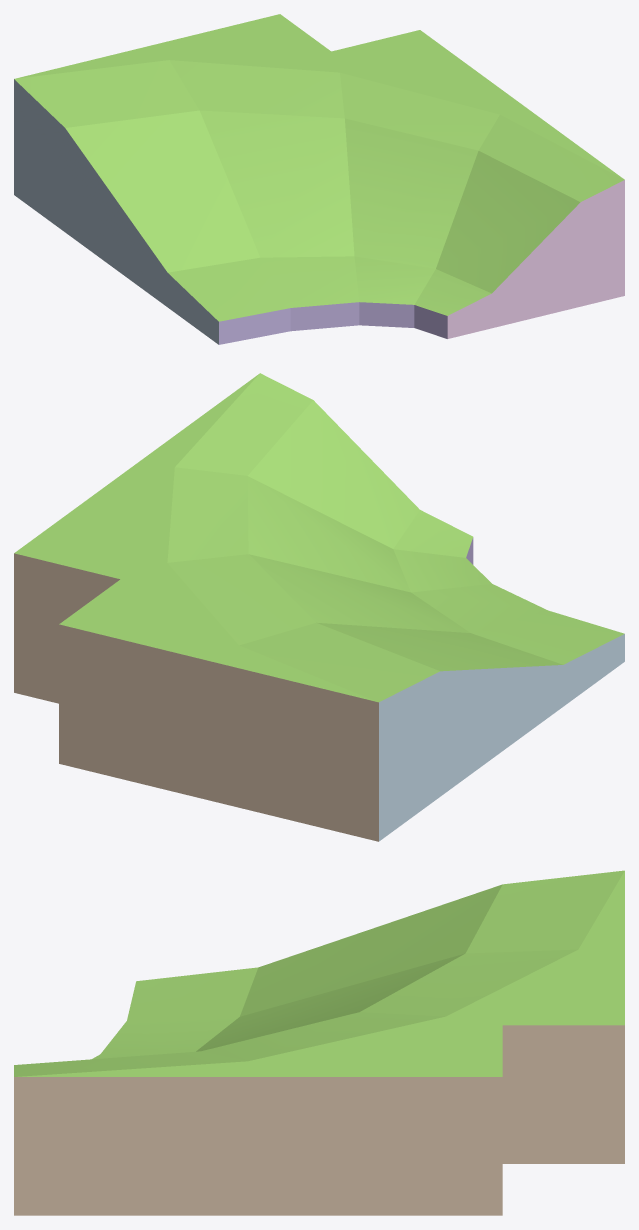
Rendered from Grass_Hill_Grade_Transition_Curve_Inner_4x5.fbx.
The picture shows the model from 3 angles, top to bottom: view 1: azimuth 30°, elevation 25°; view 2: azimuth 150°, elevation 25°; view 3: azimuth 270°, elevation 25°; orthographic projection. The views are drawn at different scales.
Parts seen in each view (by area): view 1: Grass_Hill_Grade_Transition_Curve_Inner_4x5; view 2: Grass_Hill_Grade_Transition_Curve_Inner_4x5; view 3: Grass_Hill_Grade_Transition_Curve_Inner_4x5.
Part boxes in pixels (<box>): Grass_Hill_Grade_Transition_Curve_Inner_4x5: <box>14,14,624,344</box>; Grass_Hill_Grade_Transition_Curve_Inner_4x5: <box>14,373,624,841</box>; Grass_Hill_Grade_Transition_Curve_Inner_4x5: <box>14,870,624,1215</box>.
Bounding box in the file's own units: 400 × 125 × 500.
